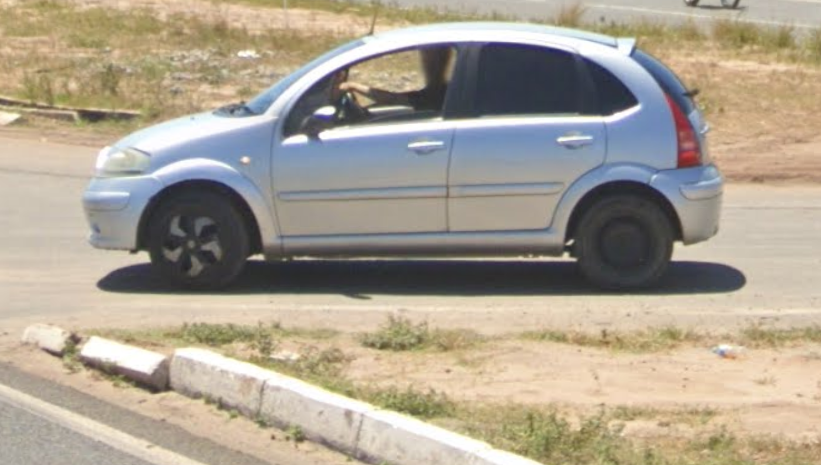car: (79, 14, 723, 291)
